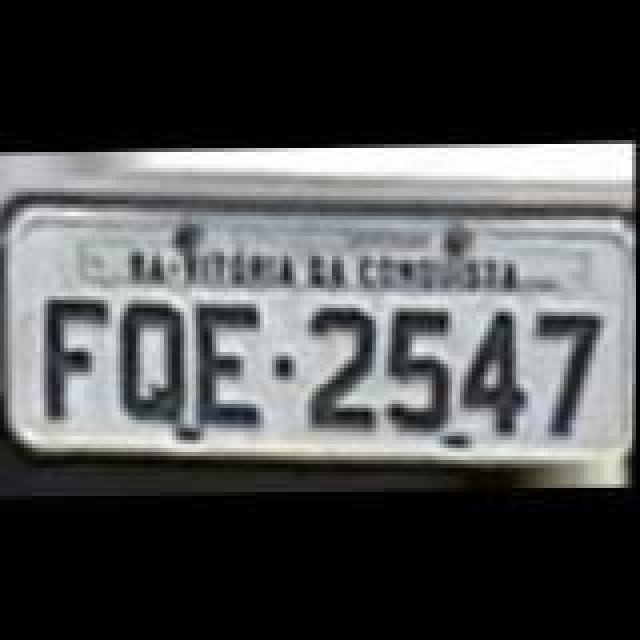2: (308, 304, 388, 440)
4: (458, 304, 534, 440)
5: (384, 308, 456, 440)
7: (526, 306, 610, 438)
E: (188, 298, 268, 434)
F: (36, 298, 116, 430)
Q: (116, 298, 196, 426)
